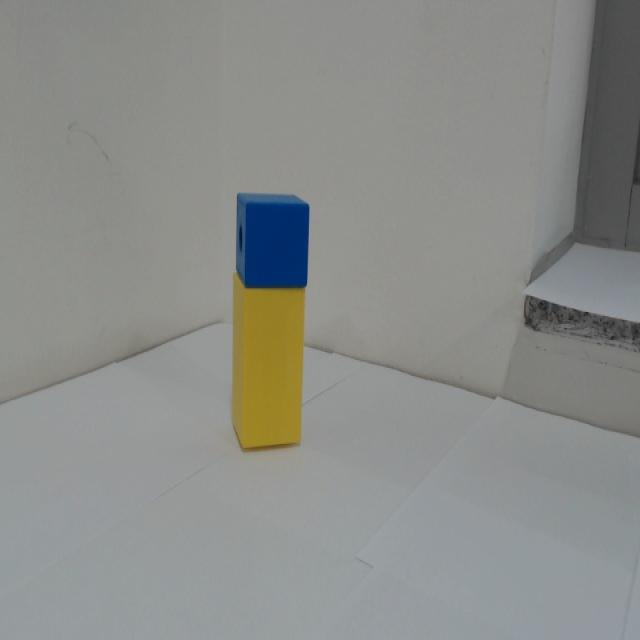cube: (234, 189, 310, 292)
